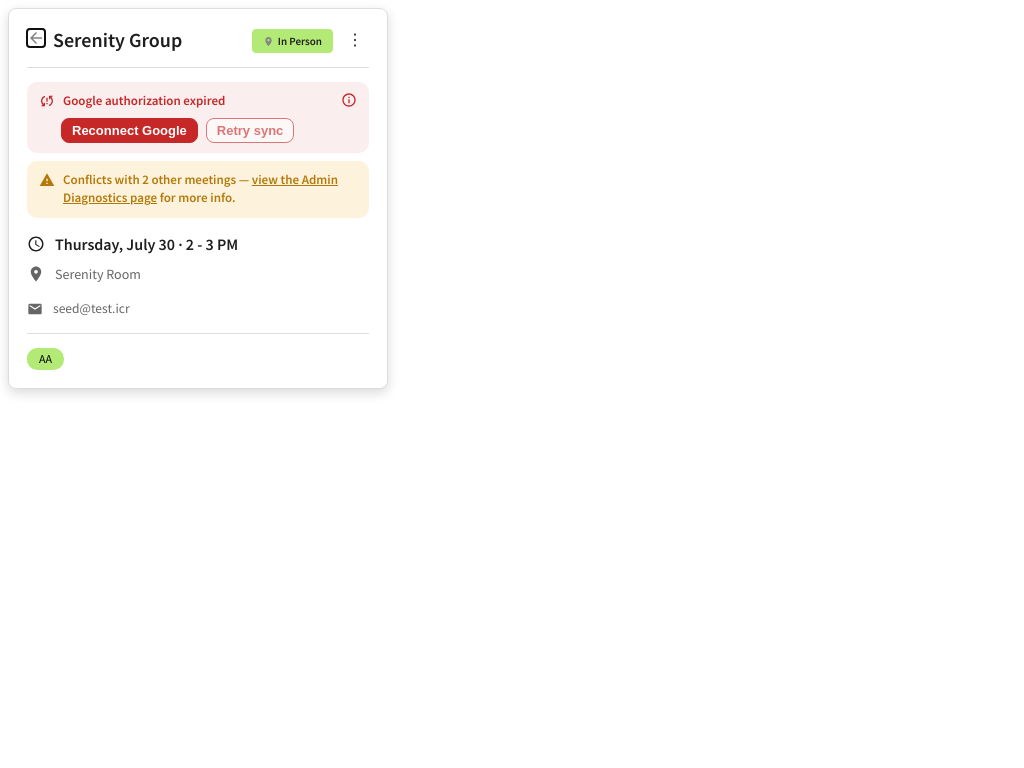
Test: ViewMeeting › status band admin gating › names the authorization instead of echoing Google's credentials error
The image size is (1024, 768).
Click the button named "Show sync error details" at (349, 100), box [341,92,357,108]
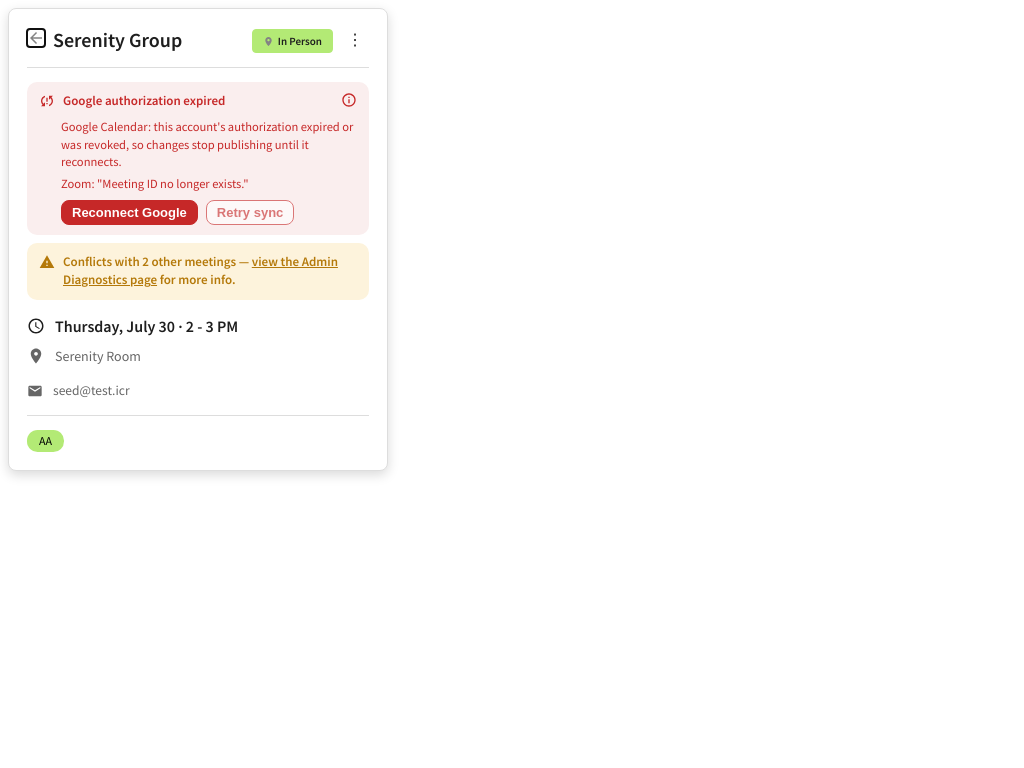
Expected: the text "authorization expired or was revoked" is shown, [61,119,353,169]
Expected: the text "Zoom: \"Meeting ID no longer exists.\"" is shown, [61,176,248,191]
